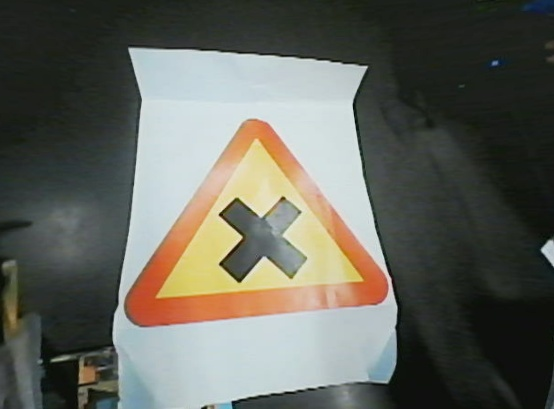junction: (122, 117, 391, 327)
